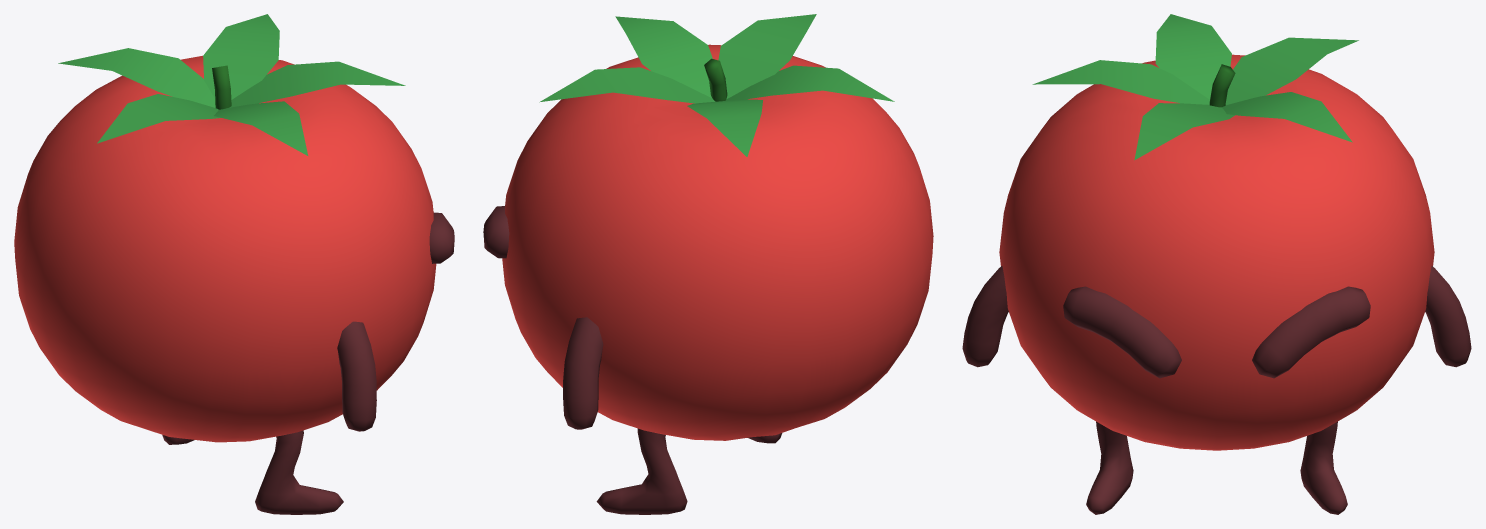
Rendered from tomato.glb.
The picture shows the model from 3 angles, left to right: view 1: azimuth 30°, elevation 25°; view 2: azimuth 150°, elevation 25°; view 3: azimuth 270°, elevation 25°; orthographic projection. The views are drawn at different scales.
Visible parts, largest first — view 1: Cube.005, Cube.006; view 2: Cube.005, Cube.006; view 3: Cube.005, Cube.006.
Part boxes in pixels (x1,y1,x2,y2): Cube.005: (14, 14, 436, 442); Cube.006: (162, 212, 454, 514); Cube.005: (502, 14, 933, 440); Cube.006: (483, 206, 782, 514); Cube.005: (999, 14, 1434, 450); Cube.006: (962, 266, 1471, 514).
Size of the model in its own units: 0.1175 by 0.1229 by 0.1336.
